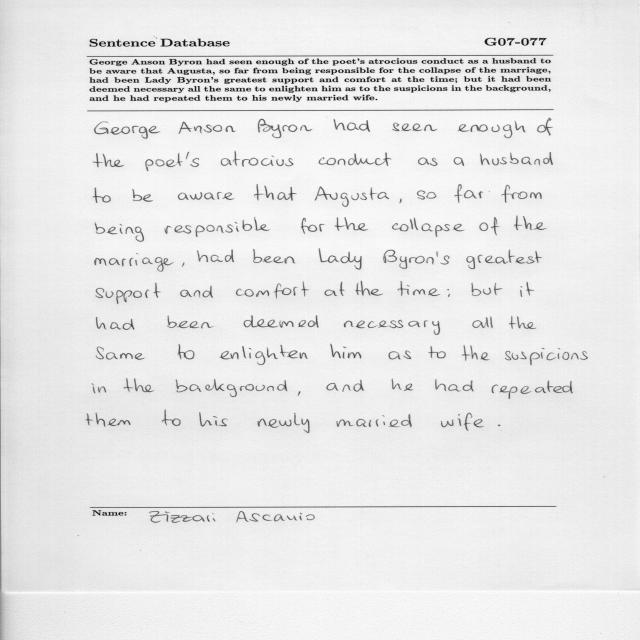word: (165, 217, 270, 237), (176, 379, 288, 397), (220, 345, 308, 365), (491, 380, 573, 399), (315, 186, 389, 207), (392, 217, 465, 237), (466, 250, 542, 269), (344, 320, 440, 335), (95, 253, 174, 271), (505, 348, 588, 365), (96, 283, 161, 304), (236, 281, 309, 299), (383, 250, 450, 269), (95, 121, 160, 139), (221, 151, 294, 167), (458, 121, 526, 138), (258, 413, 310, 433), (258, 119, 312, 138), (145, 152, 199, 171), (319, 152, 392, 166), (336, 414, 412, 427), (244, 315, 319, 328), (480, 152, 553, 165), (95, 223, 144, 242), (319, 249, 362, 270), (441, 413, 484, 431), (179, 121, 236, 134), (501, 185, 542, 203), (254, 184, 297, 201), (253, 249, 296, 264), (398, 281, 441, 296), (96, 347, 145, 360), (86, 413, 131, 427), (168, 316, 214, 329), (454, 184, 483, 203), (97, 317, 135, 330), (197, 250, 234, 263), (334, 217, 368, 231), (334, 119, 370, 132), (435, 379, 474, 391), (330, 344, 361, 359), (514, 216, 547, 230), (326, 380, 364, 392), (93, 153, 125, 167), (178, 192, 234, 200), (462, 345, 490, 361), (199, 412, 228, 427), (355, 281, 383, 296), (124, 379, 154, 393), (472, 283, 503, 296), (180, 286, 213, 298), (301, 218, 325, 234), (480, 217, 500, 236), (509, 316, 537, 329), (392, 123, 437, 131), (162, 410, 181, 426), (324, 282, 345, 296), (537, 118, 553, 136), (93, 187, 111, 203), (132, 189, 153, 202), (392, 379, 413, 392), (178, 344, 195, 359), (472, 317, 493, 328), (520, 282, 535, 297), (428, 347, 446, 359), (389, 351, 411, 360), (418, 157, 438, 166), (417, 191, 437, 200), (92, 383, 106, 394), (454, 157, 464, 166), (447, 289, 450, 297), (399, 199, 402, 203), (298, 391, 300, 396), (182, 263, 184, 267), (498, 425, 501, 427)
